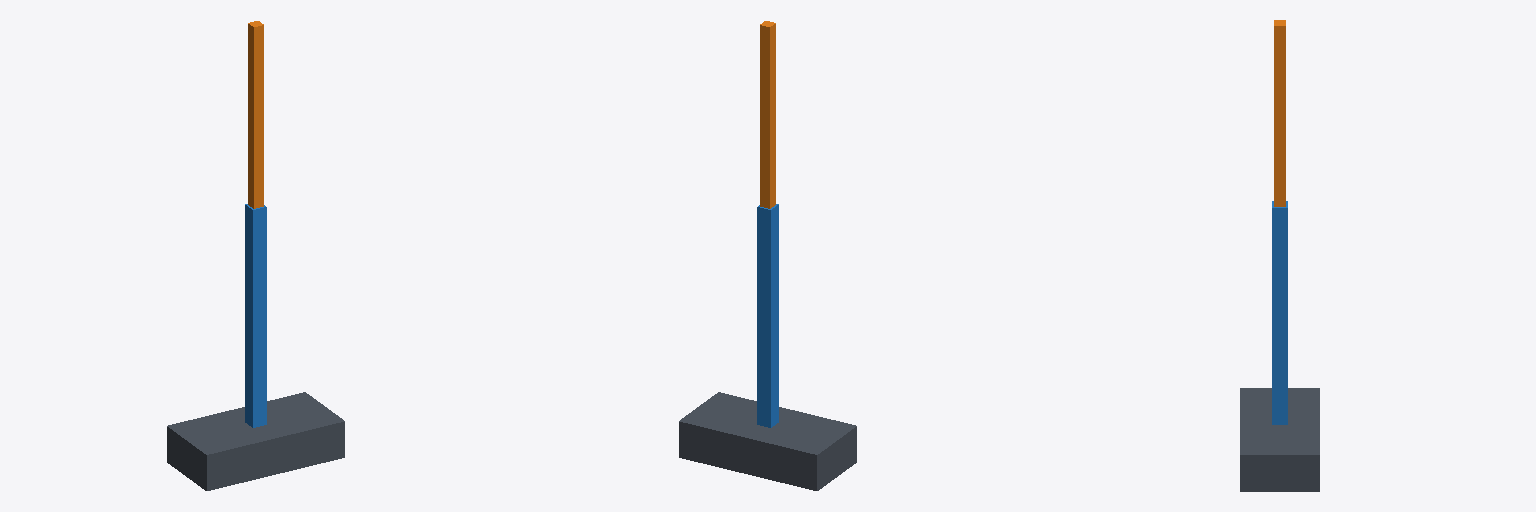
The robot description file, URDF, robot "custom_inverted_double_pendulum":
<?xml version='1.0' encoding='utf-8'?>
<robot name="custom_inverted_double_pendulum">
  <link name="base_link">
    <inertial>
      <origin xyz="0 0 0" rpy="0 0 0" />
      <mass value="0.001" />
      <inertia ixx="0.0001" ixy="0.0" ixz="0.0" iyy="0.0001" iyz="0.0" izz="0.0001" />
    </inertial>
  </link>
  <link name="cart_link">
    <inertial>
      <origin xyz="0 0 0" rpy="0 0 0" />
      <mass value="0.9716" />
      <inertia ixx="0.02" ixy="0.0" ixz="0.0" iyy="0.02" iyz="0.0" izz="0.02" />
    </inertial>
    <visual>
      <origin xyz="0 0 0" rpy="0 0 0" />
      <geometry>
        <box size="0.4 0.2 0.1" />
      </geometry>
      <material name="cart_gray">
        <color rgba="0.35 0.38 0.42 1.0" />
      </material>
    </visual>
    <collision>
      <origin xyz="0 0 0" rpy="0 0 0" />
      <geometry>
        <box size="0.4 0.2 0.1" />
      </geometry>
    </collision>
  </link>
  <joint name="slider_joint" type="prismatic">
    <parent link="base_link" />
    <child link="cart_link" />
    <origin xyz="0 0 0.15" rpy="0 0 0" />
    <axis xyz="1 0 0" />
    <limit lower="-2.4" upper="2.4" effort="200.0" velocity="10.0" />
    <dynamics damping="0.1" friction="0.0" />
  </joint>
  <link name="pole_1_link">
    <inertial>
      <origin xyz="0 0 0.3" rpy="0 0 0" />
      <mass value="0.25" />
      <inertia ixx="0.015" ixy="0.0" ixz="0.0" iyy="0.001" iyz="0.0" izz="0.015" />
    </inertial>
    <visual>
      <origin xyz="0 0 0.3" rpy="0 0 0" />
      <geometry>
        <box size="0.04 0.04 0.6" />
      </geometry>
      <material name="pole_blue">
        <color rgba="0.20 0.55 0.85 1.0" />
      </material>
    </visual>
    <collision>
      <origin xyz="0 0 0.3" rpy="0 0 0" />
      <geometry>
        <box size="0.04 0.04 0.6" />
      </geometry>
    </collision>
  </link>
  <joint name="pole_1_joint" type="revolute">
    <parent link="cart_link" />
    <child link="pole_1_link" />
    <origin xyz="0 0 0.05" rpy="0 0 0" />
    <axis xyz="0 1 0" />
    <limit lower="-3.14159" upper="3.14159" effort="50.0" velocity="20.0" />
    <dynamics damping="0.01" friction="0.0" />
  </joint>
  <link name="pole_2_link">
    <inertial>
      <origin xyz="0 0 0.25" rpy="0 0 0" />
      <mass value="0.15" />
      <inertia ixx="0.008" ixy="0.0" ixz="0.0" iyy="0.001" iyz="0.0" izz="0.008" />
    </inertial>
    <visual>
      <origin xyz="0 0 0.25" rpy="0 0 0" />
      <geometry>
        <box size="0.03 0.03 0.5" />
      </geometry>
      <material name="pole_orange">
        <color rgba="0.95 0.55 0.15 1.0" />
      </material>
    </visual>
    <collision>
      <origin xyz="0 0 0.25" rpy="0 0 0" />
      <geometry>
        <box size="0.03 0.03 0.5" />
      </geometry>
    </collision>
  </link>
  <joint name="pole_2_joint" type="revolute">
    <parent link="pole_1_link" />
    <child link="pole_2_link" />
    <origin xyz="0 0 0.6" rpy="0 0 0" />
    <axis xyz="0 1 0" />
    <limit lower="-3.14159" upper="3.14159" effort="50.0" velocity="20.0" />
    <dynamics damping="0.005" friction="0.0" />
  </joint>
</robot>

--- Render facts (derived) ---
The picture shows the robot from 3 angles, left to right: view 1: azimuth 30°, elevation 25°; view 2: azimuth 150°, elevation 25°; view 3: azimuth 270°, elevation 25°; orthographic projection.
Robot: custom_inverted_double_pendulum — 4 links, 3 joints (2 revolute, 1 prismatic); root link base_link; default pose: every joint at zero.
Links seen in each view (by area): view 1: cart_link, pole_1_link, pole_2_link; view 2: cart_link, pole_1_link, pole_2_link; view 3: cart_link, pole_1_link, pole_2_link.
Link boxes in pixels (x1=…): cart_link: x1=167, y1=392, x2=344, y2=490; pole_1_link: x1=245, y1=204, x2=266, y2=427; pole_2_link: x1=248, y1=21, x2=263, y2=208; cart_link: x1=679, y1=392, x2=856, y2=490; pole_1_link: x1=757, y1=204, x2=778, y2=427; pole_2_link: x1=760, y1=21, x2=775, y2=208; cart_link: x1=1240, y1=388, x2=1319, y2=491; pole_1_link: x1=1272, y1=201, x2=1287, y2=424; pole_2_link: x1=1274, y1=20, x2=1285, y2=206.
Size in the robot's own frame: 0.4 by 0.2 by 1.2 metres.
Geometry: primitives only (box / cylinder / sphere), no mesh files.
